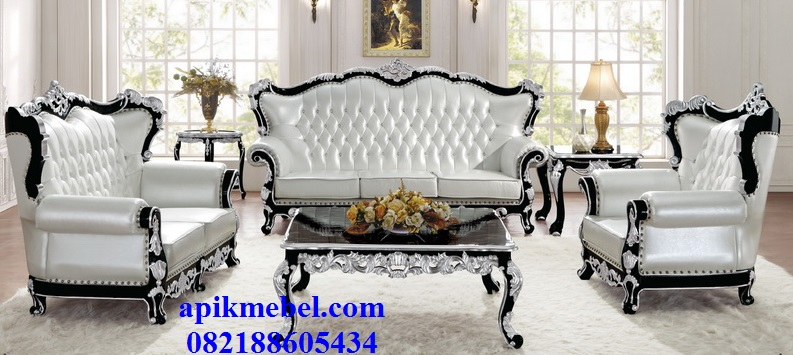Carving Chair: (237, 63, 549, 226), (23, 86, 238, 307), (578, 99, 790, 322)
Carving Table: (277, 199, 535, 342)
